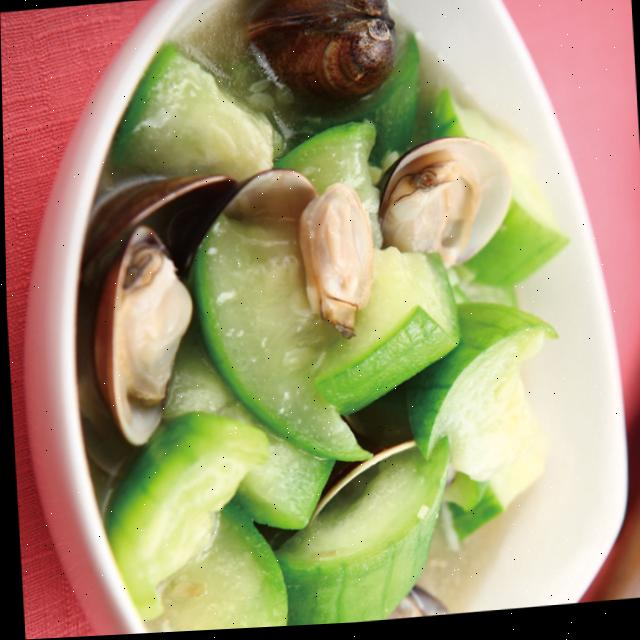Wet: (41, 0, 555, 638)
